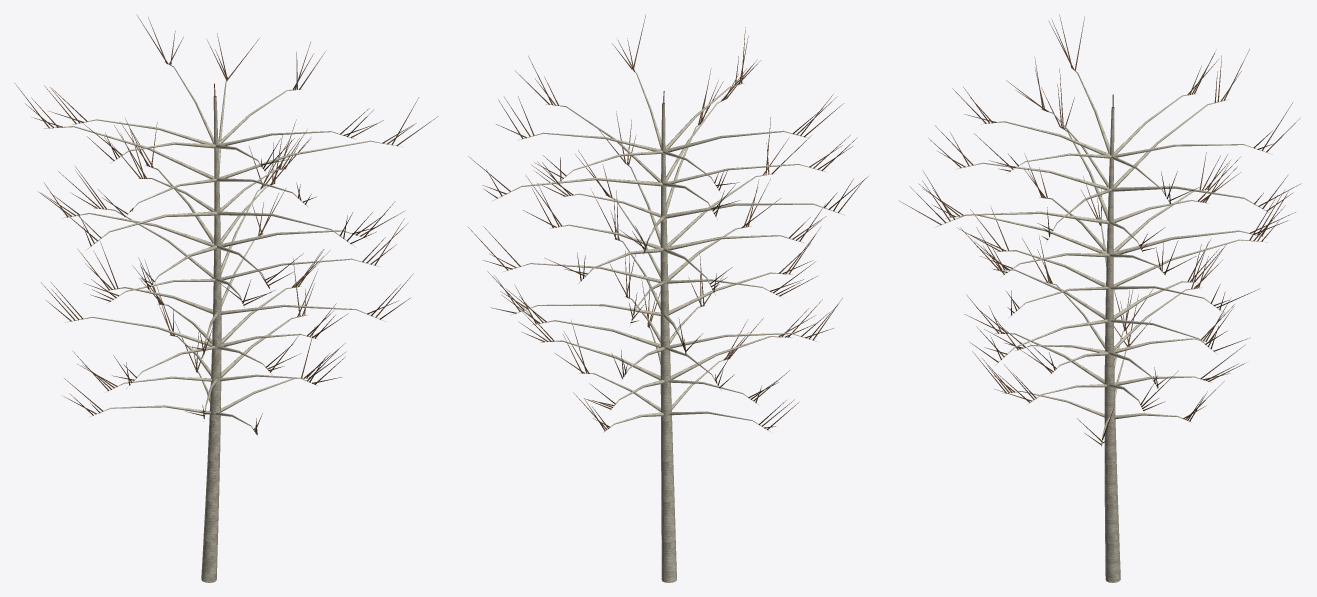
File: birch.obj
3 views of the same model, side by side, from view 1: azimuth 30°, elevation 25°; view 2: azimuth 150°, elevation 25°; view 3: azimuth 270°, elevation 25° (orthographic).
Parts seen in each view (by area): view 1: birch; view 2: birch; view 3: birch.
Boxes of the visible parts, x1,y1,x2,y2 form: birch: [15, 14, 438, 582]; birch: [468, 15, 868, 582]; birch: [899, 14, 1300, 582].
Size of the model in its own units: 11.63 by 15.16 by 11.19.
2 materials, 2 textured.
